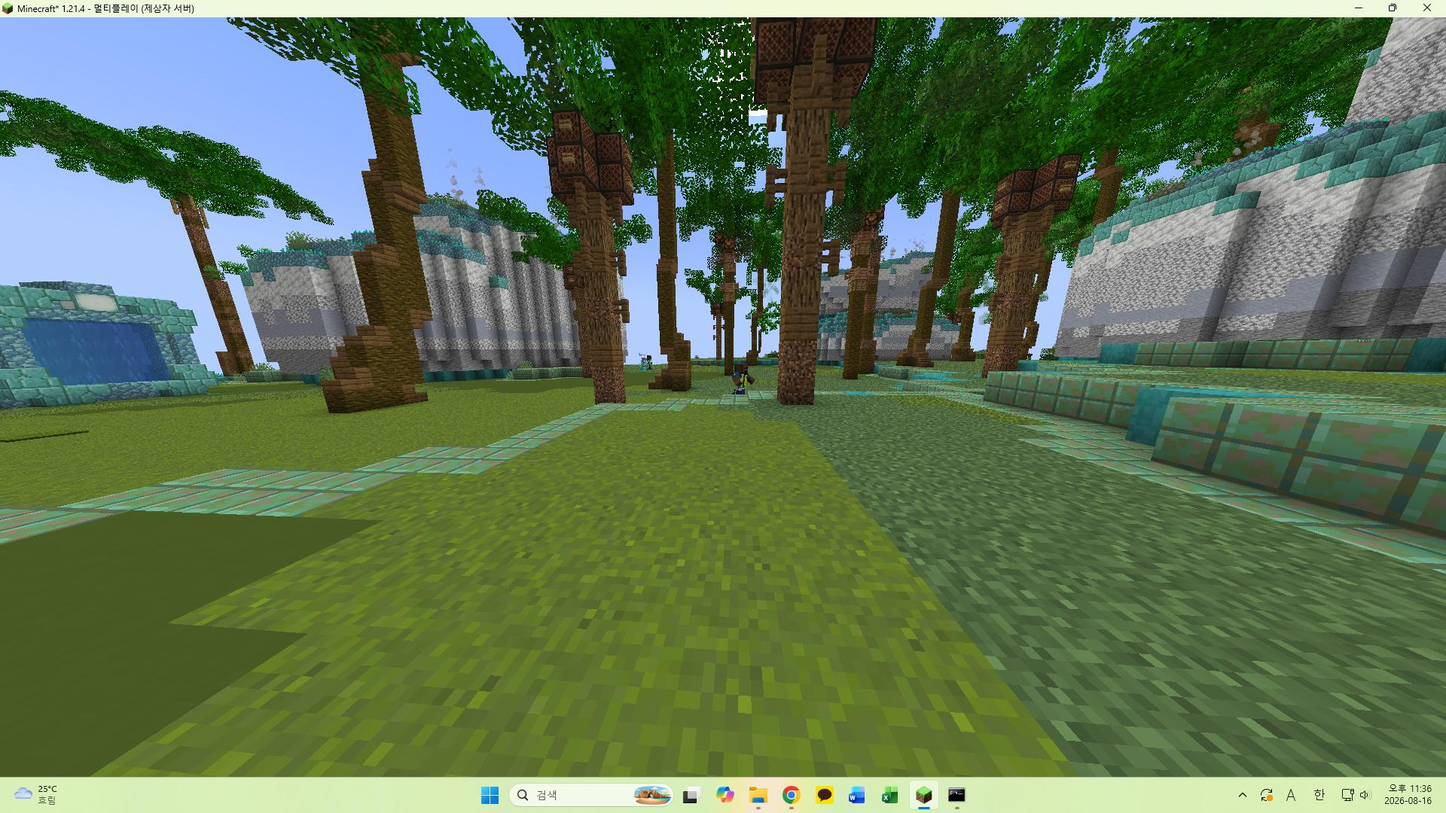Guardian: (729, 360, 754, 394)
